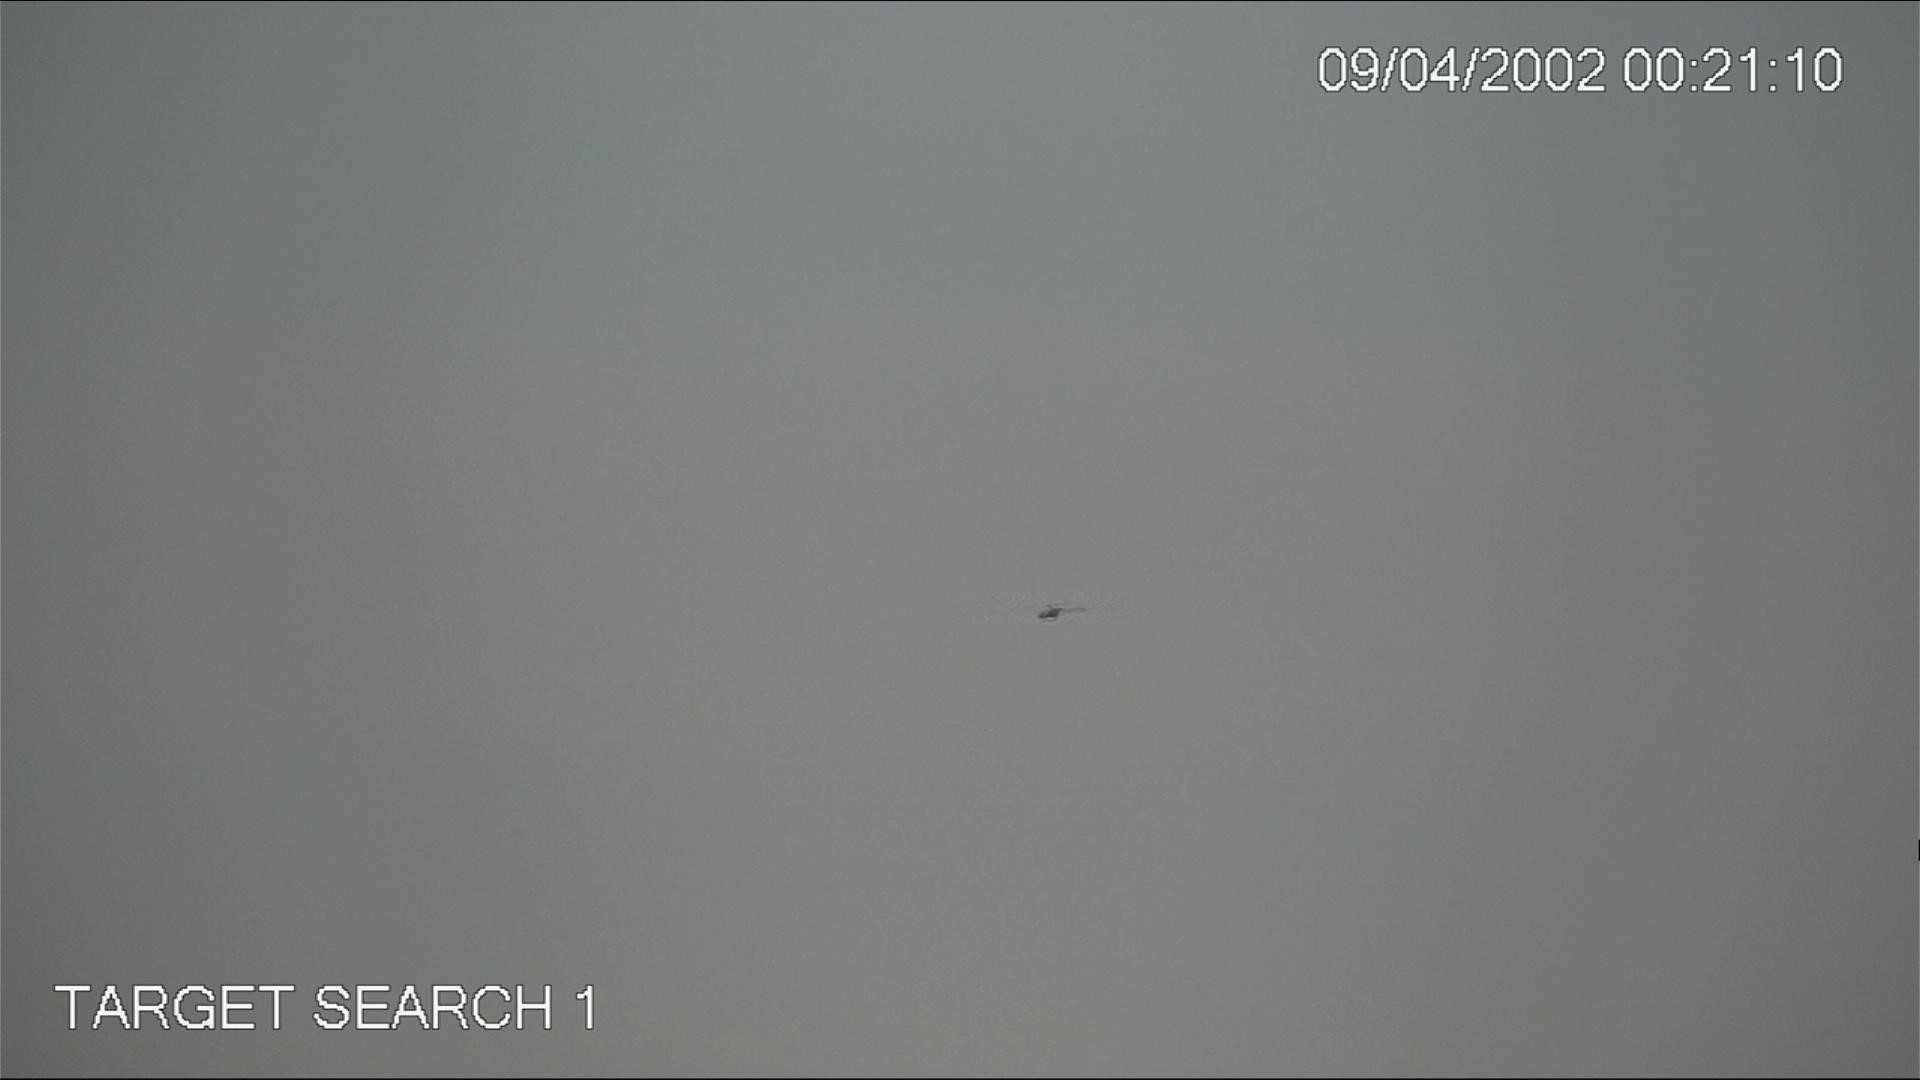SU_30: (1035, 605, 1062, 622)
